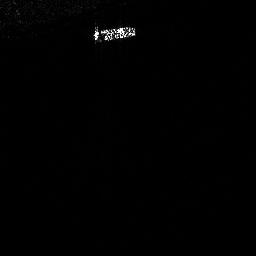ship: (92, 24, 137, 42)
